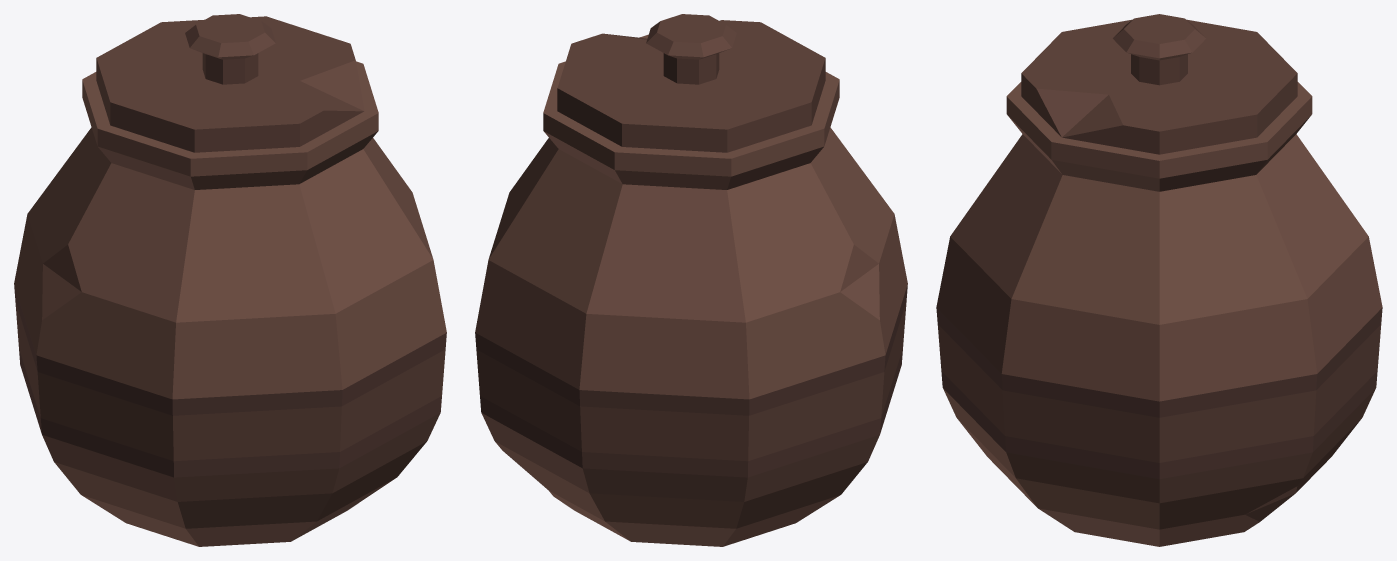
Rendered from SFHW_Jar_004.fbx.
3 renders of one model, left to right at view 1: azimuth 30°, elevation 25°; view 2: azimuth 150°, elevation 25°; view 3: azimuth 270°, elevation 25°, orthographic.
Visible parts, largest first — view 1: SFHW_Jar_004; view 2: SFHW_Jar_004; view 3: SFHW_Jar_004.
Part boxes in pixels (x1,y1,x2,y2): SFHW_Jar_004: [14, 14, 446, 546]; SFHW_Jar_004: [475, 14, 907, 546]; SFHW_Jar_004: [936, 14, 1382, 546].
Bounding box in the file's own units: 18.73 × 21.63 × 18.73.
